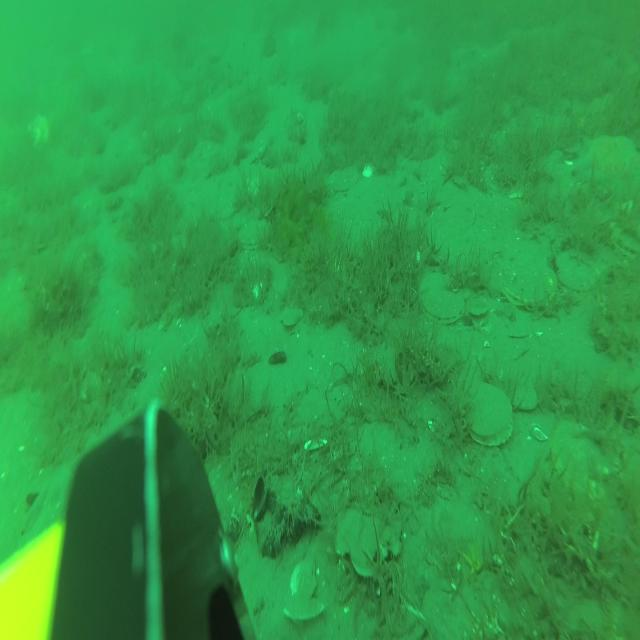scallop: (553, 418, 607, 496), (466, 380, 514, 447), (282, 558, 324, 622), (504, 263, 556, 308), (421, 270, 463, 323), (556, 252, 598, 290), (330, 165, 359, 195), (240, 218, 270, 247), (612, 228, 640, 258), (26, 114, 48, 150), (516, 386, 536, 414), (282, 306, 303, 328), (469, 303, 489, 324)
starfish: (573, 136, 640, 199)
